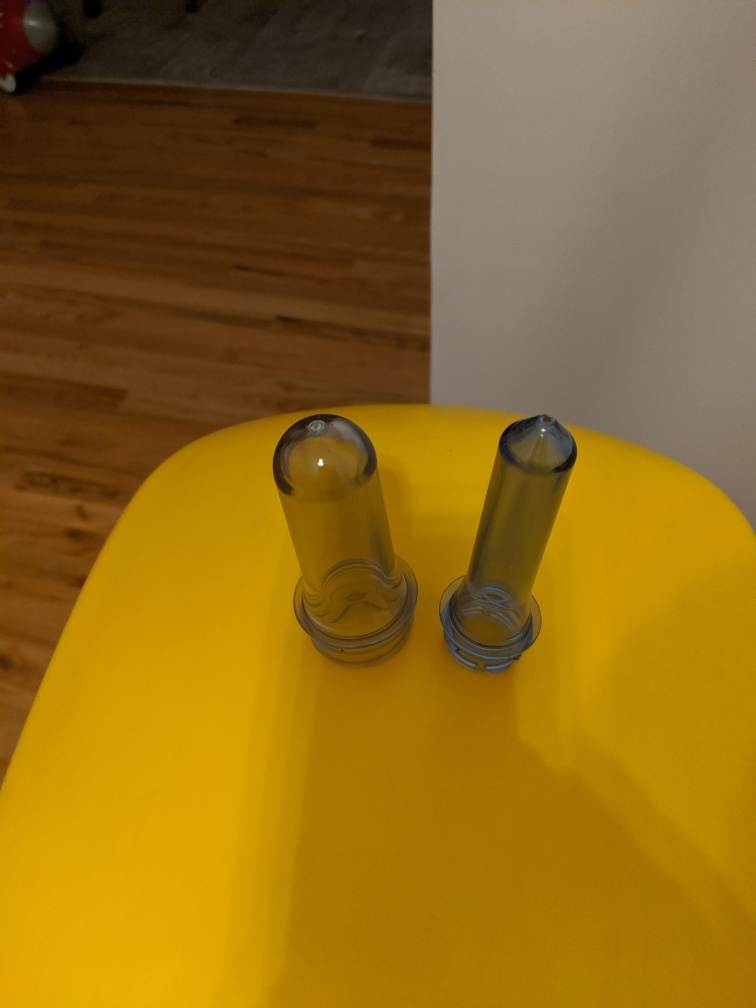preform: (263, 405, 426, 682), (430, 407, 584, 681)
